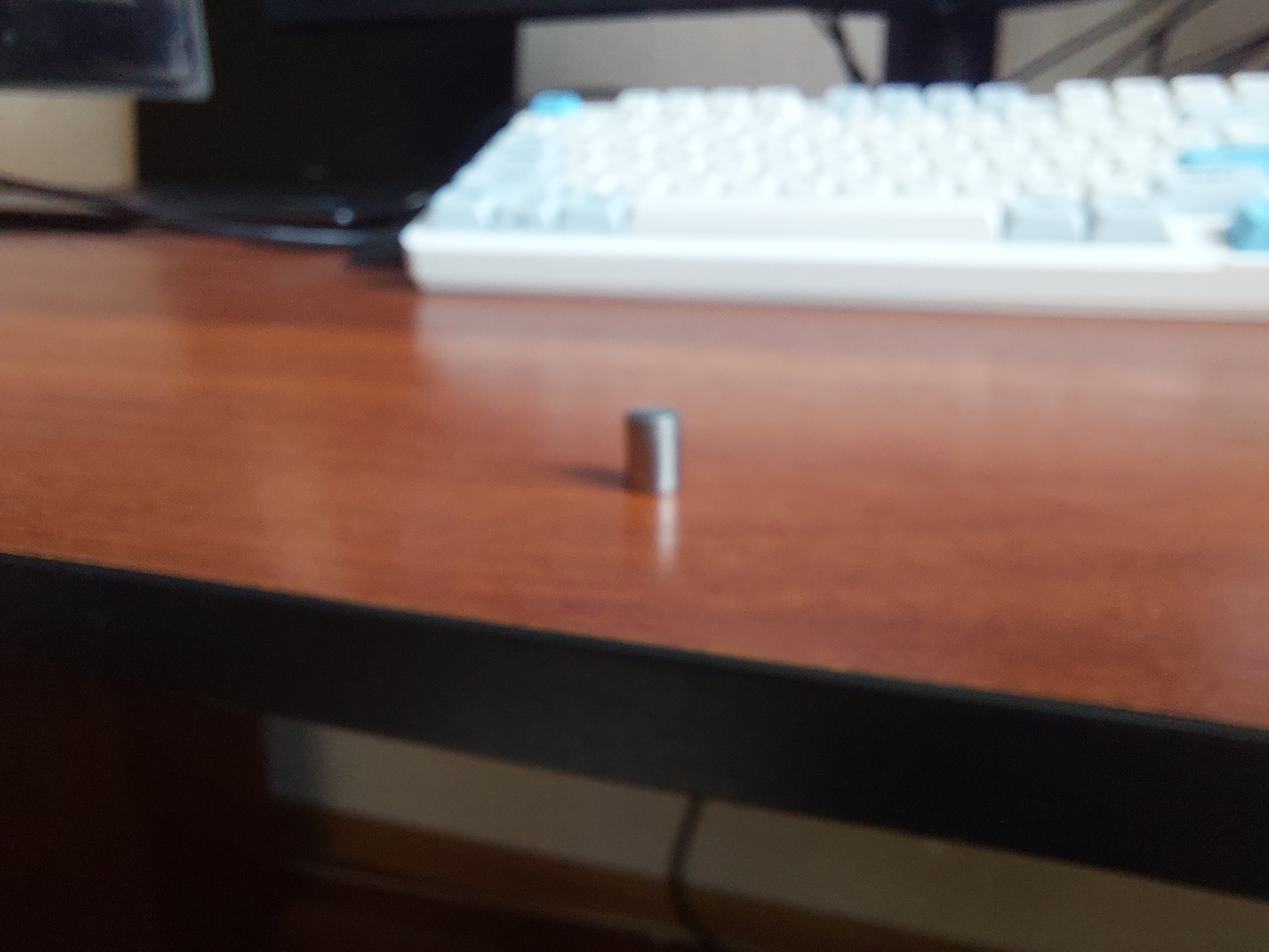tablet: (630, 410, 681, 492)
